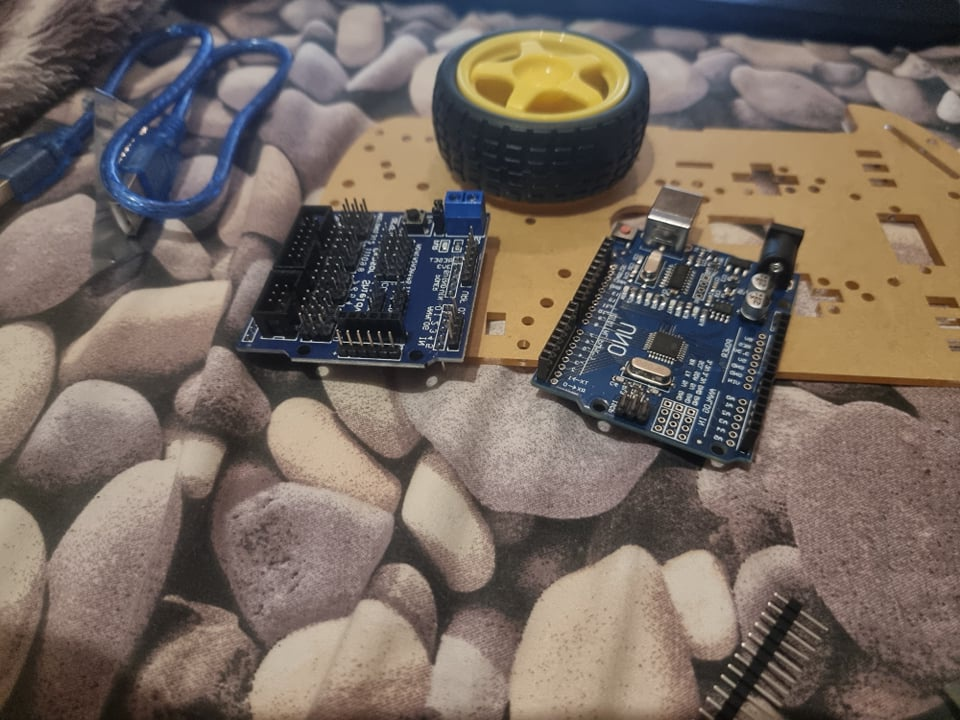5V EXPANSION: (238, 187, 489, 366)
UNO R3: (532, 187, 808, 469)
